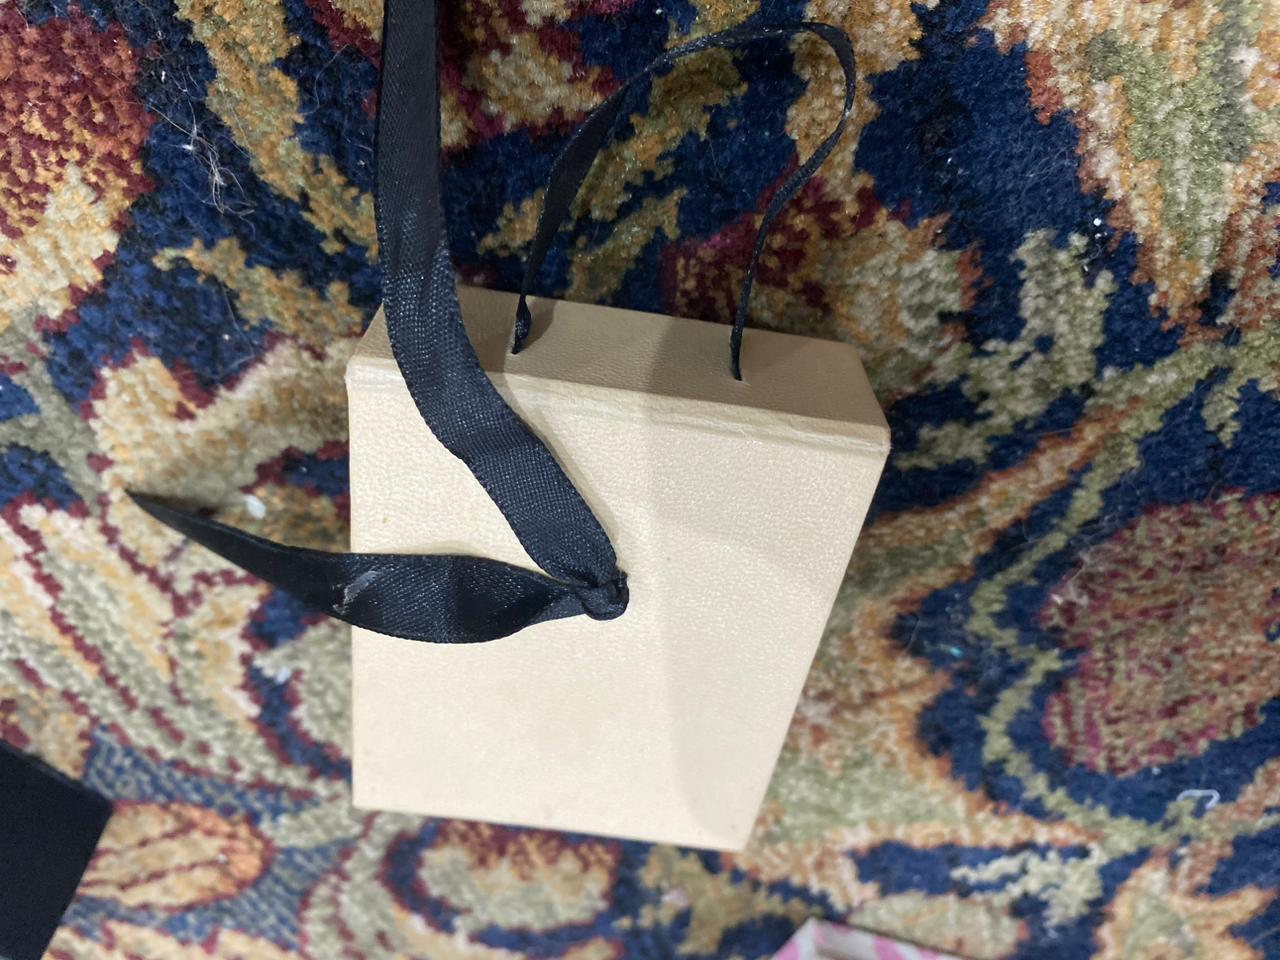Yellow Box: (336, 266, 894, 860)
